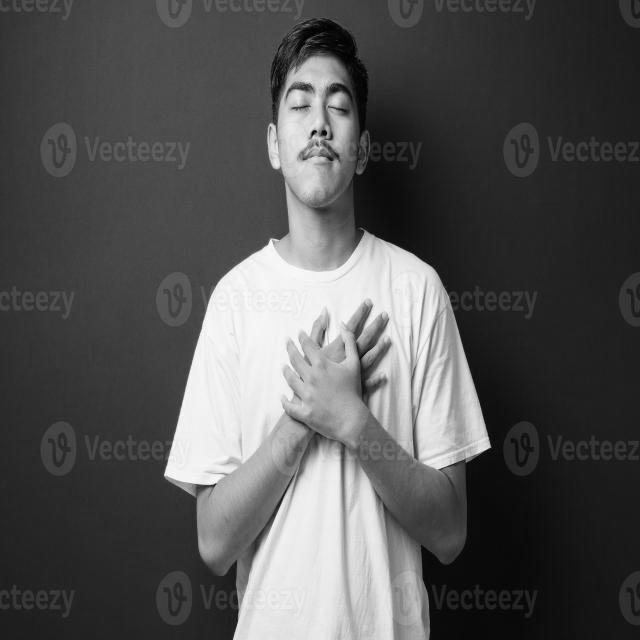real: (266, 52, 372, 211), (284, 75, 360, 123)
